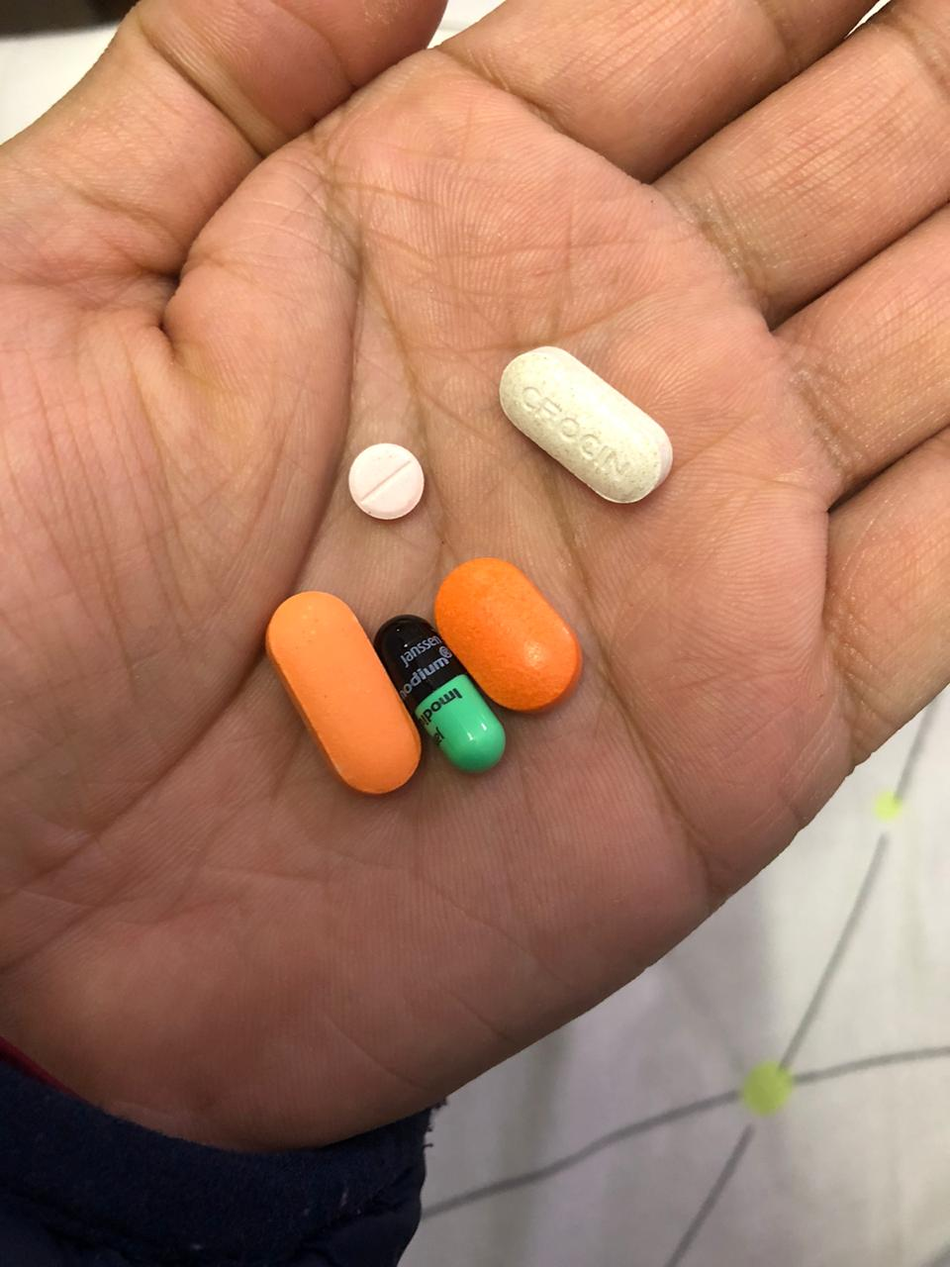tablets: (262, 590, 423, 797), (499, 345, 677, 506), (430, 558, 582, 713), (375, 614, 511, 772), (349, 439, 427, 519)
